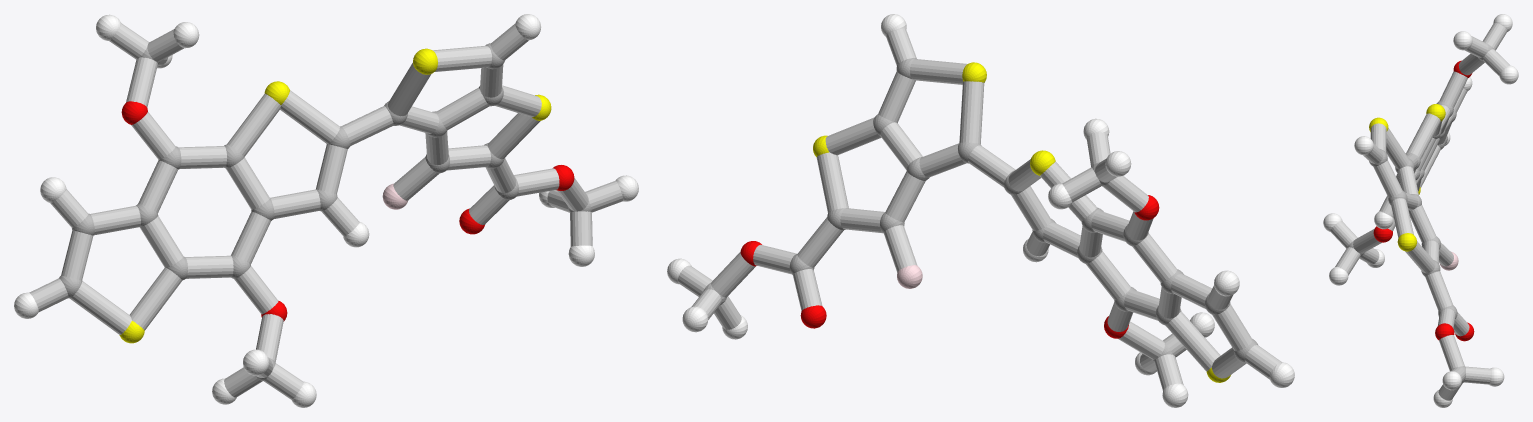
The model's file is color.glb.
3 renders of one model, left to right at view 1: azimuth 30°, elevation 25°; view 2: azimuth 150°, elevation 25°; view 3: azimuth 270°, elevation 25°, orthographic. The views are drawn at different scales.
Parts seen in each view (by area): view 1: grp15205, grp8689, grp1, grp7241, grp13395; view 2: grp15205, grp8689, grp1, grp13395, grp7241; view 3: grp15205, grp8689, grp1, grp13395, grp7241.
Boxes of the visible parts, bbox=[...] form: grp15205: bbox=[29, 23, 623, 399]; grp8689: bbox=[14, 14, 638, 407]; grp1: bbox=[58, 42, 591, 380]; grp7241: bbox=[119, 48, 551, 343]; grp13395: bbox=[121, 101, 574, 321]; grp15205: bbox=[678, 28, 1281, 390]; grp8689: bbox=[667, 14, 1294, 407]; grp1: bbox=[703, 58, 1257, 362]; grp13395: bbox=[740, 195, 1159, 338]; grp7241: bbox=[813, 62, 1230, 382]; grp15205: bbox=[1330, 23, 1509, 400]; grp8689: bbox=[1323, 14, 1518, 407]; grp1: bbox=[1347, 44, 1493, 382]; grp13395: bbox=[1373, 60, 1474, 341]; grp7241: bbox=[1369, 104, 1445, 251].
Size of the model in its own units: 16.51 by 8.31 by 6.06.
